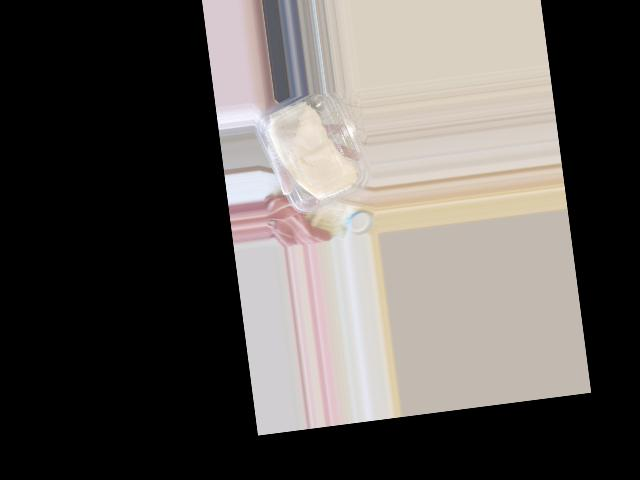cheese: (258, 88, 371, 220)
